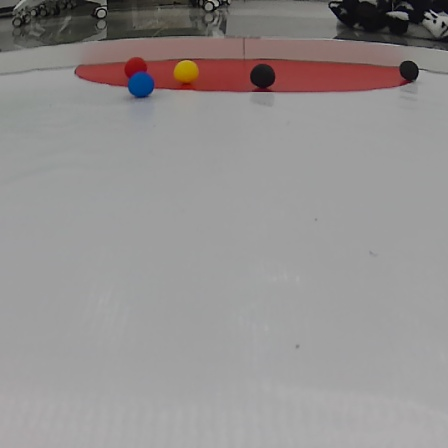black: (394, 59, 423, 83), (249, 62, 274, 89)
blue: (128, 73, 154, 101)
red: (125, 58, 145, 75)
red_base: (69, 54, 423, 96)
yellow: (176, 61, 198, 82)
